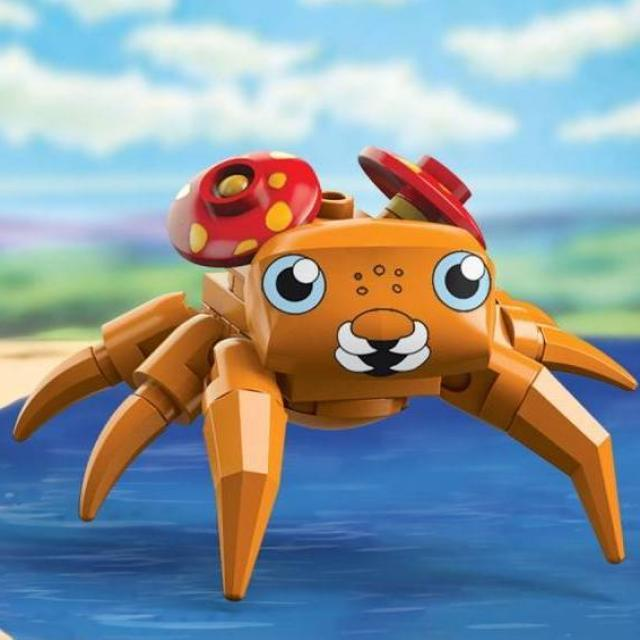Paras: (169, 147, 578, 490)
